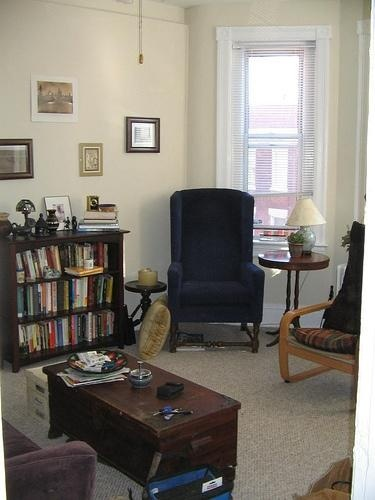chair: (168, 189, 266, 355), (280, 222, 367, 385), (2, 418, 98, 500)
pottedplant: (288, 232, 306, 259)
